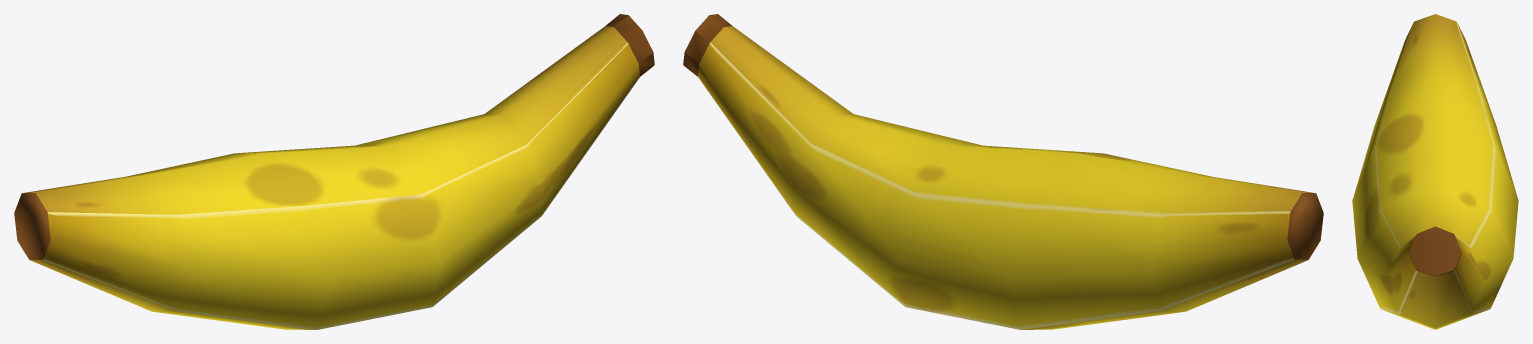
Rendered from banana.fbx.
3 renders of one model, left to right at view 1: azimuth 30°, elevation 25°; view 2: azimuth 150°, elevation 25°; view 3: azimuth 270°, elevation 25°, orthographic. The views are drawn at different scales.
Parts seen in each view (by area): view 1: pCylinder14; view 2: pCylinder14; view 3: pCylinder14.
Boxes of the visible parts, x1=… form: pCylinder14: x1=14, y1=14, x2=654, y2=329; pCylinder14: x1=683, y1=14, x2=1323, y2=329; pCylinder14: x1=1352, y1=14, x2=1518, y2=329.
Bounding box in the file's own units: 2.49 × 0.9094 × 0.7019.
